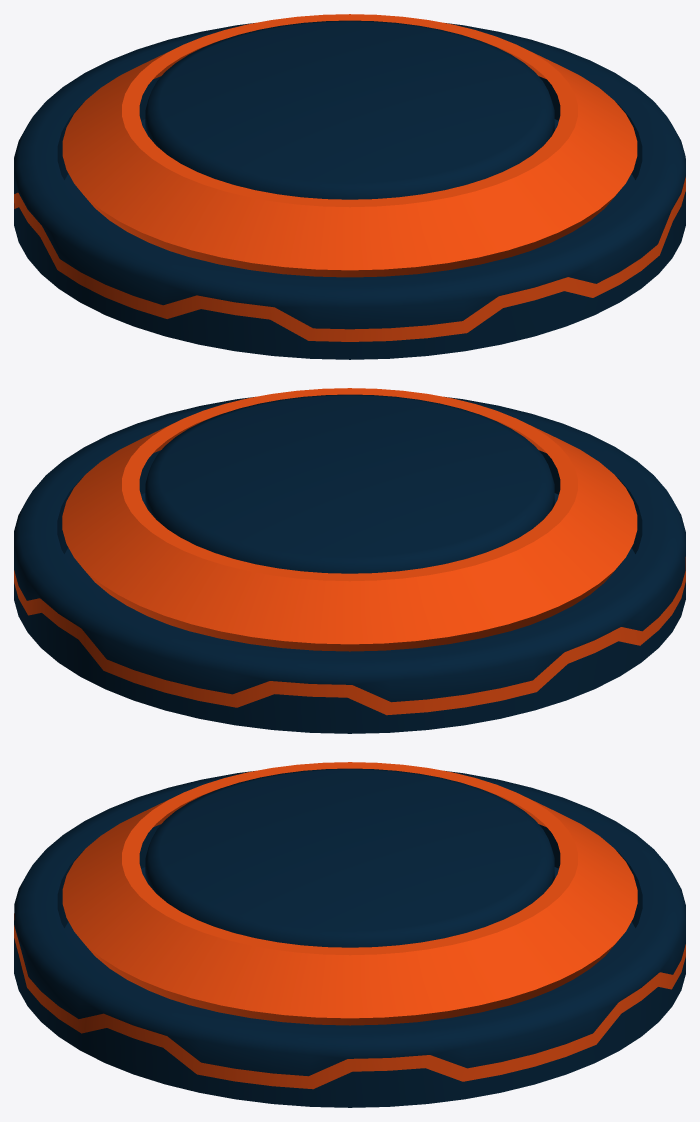
Rendered from platform1.fbx.
3 renders of one model, top to bottom at view 1: azimuth 30°, elevation 25°; view 2: azimuth 150°, elevation 25°; view 3: azimuth 270°, elevation 25°, orthographic.
Visible parts, largest first — view 1: Cylinder026, Cylinder025, Cylinder024; view 2: Cylinder026, Cylinder025, Cylinder024; view 3: Cylinder026, Cylinder025, Cylinder024.
Boxes of the visible parts, left/top/right/bottom form: Cylinder026: left=14, top=23, right=685, bottom=359; Cylinder025: left=62, top=14, right=637, bottom=277; Cylinder024: left=145, top=20, right=554, bottom=199; Cylinder026: left=14, top=396, right=685, bottom=733; Cylinder025: left=62, top=388, right=637, bottom=651; Cylinder024: left=145, top=394, right=554, bottom=573; Cylinder026: left=14, top=770, right=685, bottom=1107; Cylinder025: left=62, top=762, right=637, bottom=1025; Cylinder024: left=145, top=768, right=554, bottom=947.
Bounding box in the file's own units: 660 × 125 × 659.
